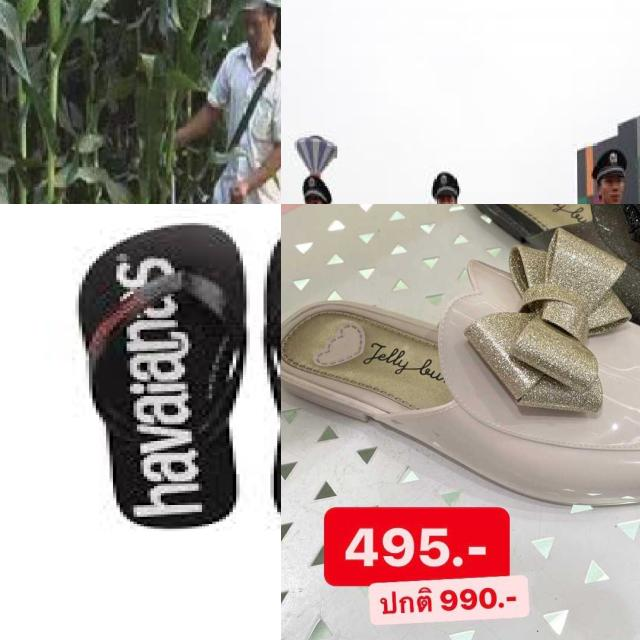Sandals: (281, 210, 640, 548), (30, 204, 281, 544), (439, 204, 640, 381)
face_nomask: (244, 12, 268, 58), (603, 177, 626, 204), (437, 186, 457, 204)
hand_noglove: (231, 178, 248, 204)
head_nohelmet: (240, 0, 275, 24)
person: (183, 0, 281, 204)
